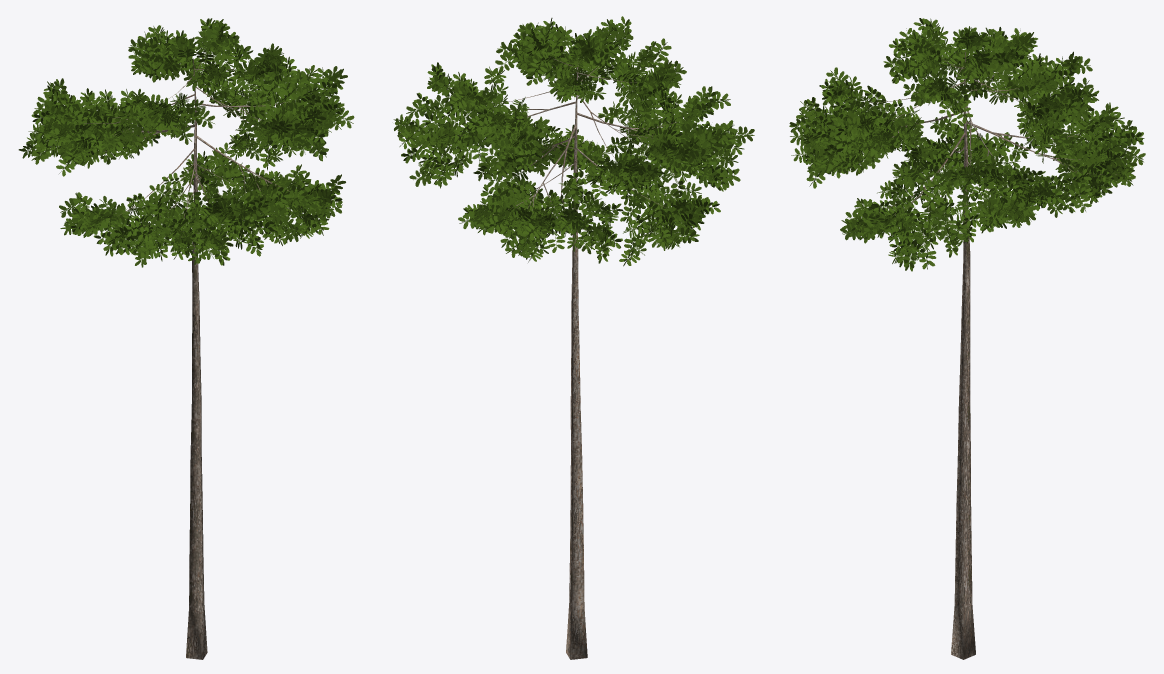
Rendered from MerantiTree_001.fbx.
3 views of the same model, side by side, from view 1: azimuth 30°, elevation 25°; view 2: azimuth 150°, elevation 25°; view 3: azimuth 270°, elevation 25° (orthographic).
Visible parts, largest first — view 1: MerantiTree.001; view 2: MerantiTree.001; view 3: MerantiTree.001.
Boxes of the visible parts, x1,y1,x2,y2 form: MerantiTree.001: (18, 18, 354, 659); MerantiTree.001: (393, 16, 754, 659); MerantiTree.001: (789, 18, 1145, 659).
Bounding box in the file's own units: 1843 × 3527 × 1863.
Materials: 2 (2 with a texture image).
